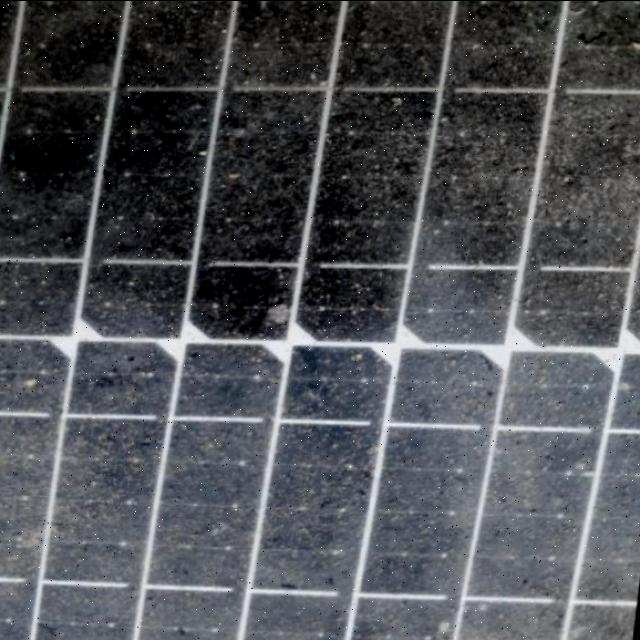Surface Contaminant: (0, 8, 640, 640)
